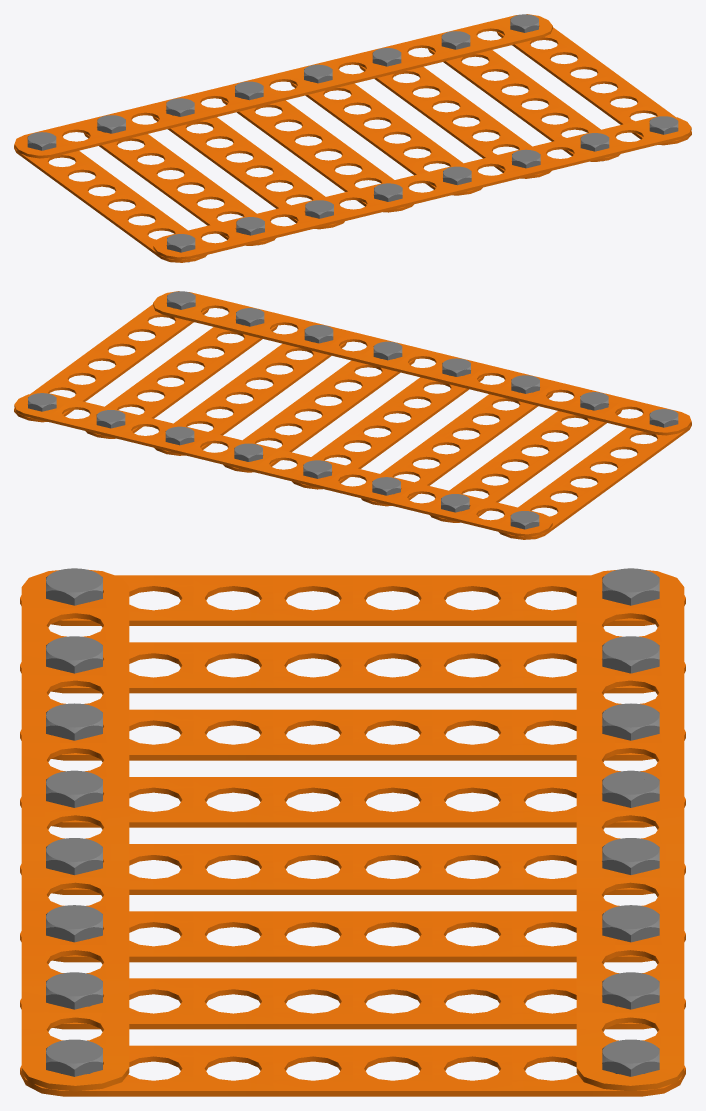
The model's file is ConstructedPanelYellow.fbx.
The picture shows the model from 3 angles, top to bottom: view 1: azimuth 30°, elevation 25°; view 2: azimuth 150°, elevation 25°; view 3: azimuth 270°, elevation 25°; orthographic projection. The views are drawn at different scales.
Visible parts, largest first — view 1: Bridge, 2HighConnection; view 2: Bridge, 2HighConnection; view 3: Bridge, 2HighConnection.
Boxes of the visible parts, x1,y1,x2,y2 form: Bridge: (14, 14, 691, 262); 2HighConnection: (27, 14, 678, 262); Bridge: (14, 291, 691, 539); 2HighConnection: (28, 291, 678, 529); Bridge: (20, 569, 685, 1096); 2HighConnection: (46, 568, 659, 1095).
Size of the model in its own units: 39.25 by 1.13 by 21.36.
